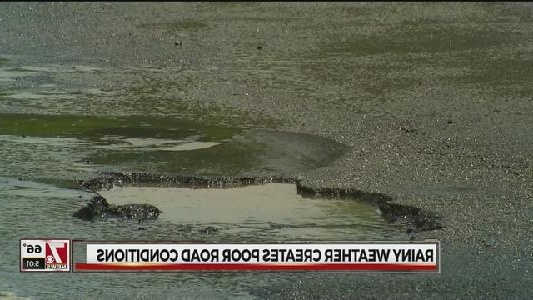pothole: (71, 170, 441, 241)
